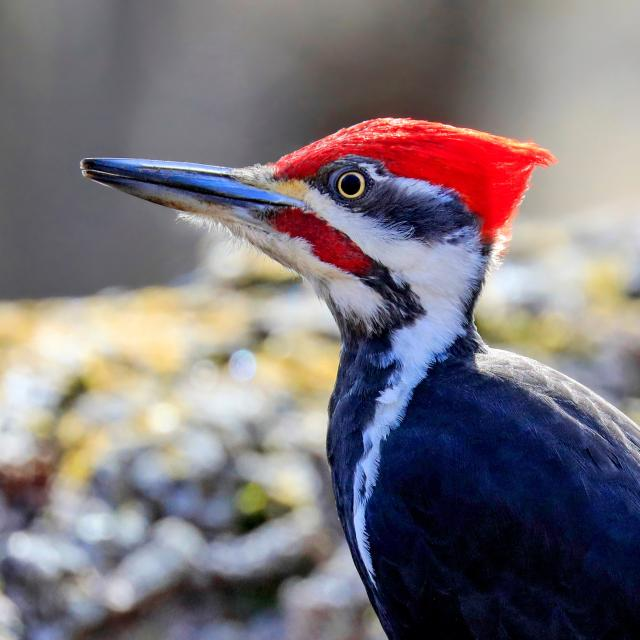Woodpecker: (81, 102, 640, 640)
